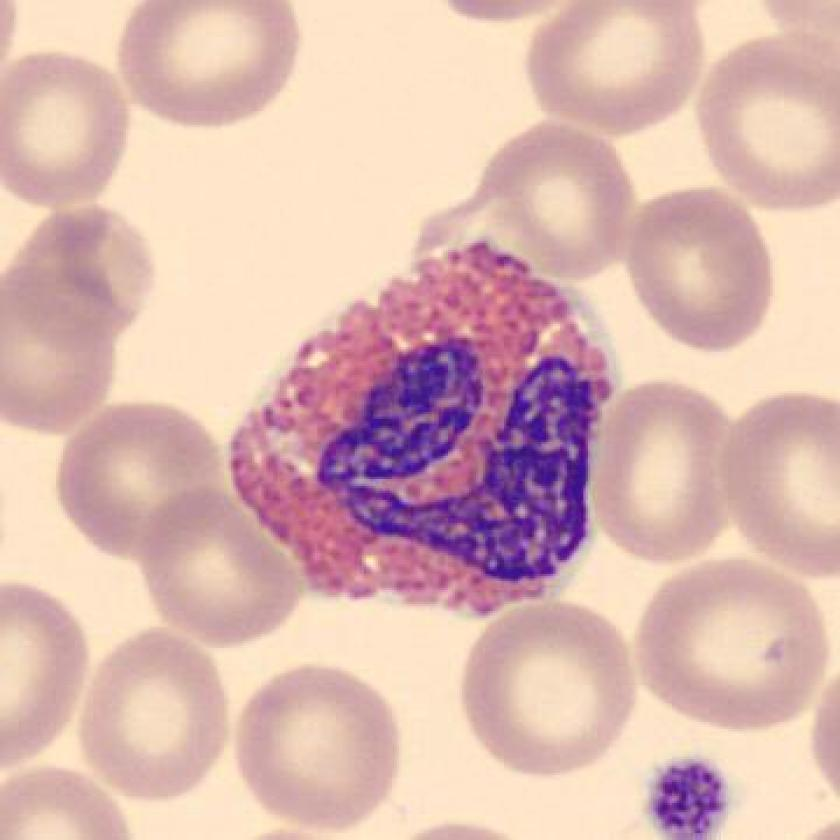eosinophil: (216, 223, 631, 640)
